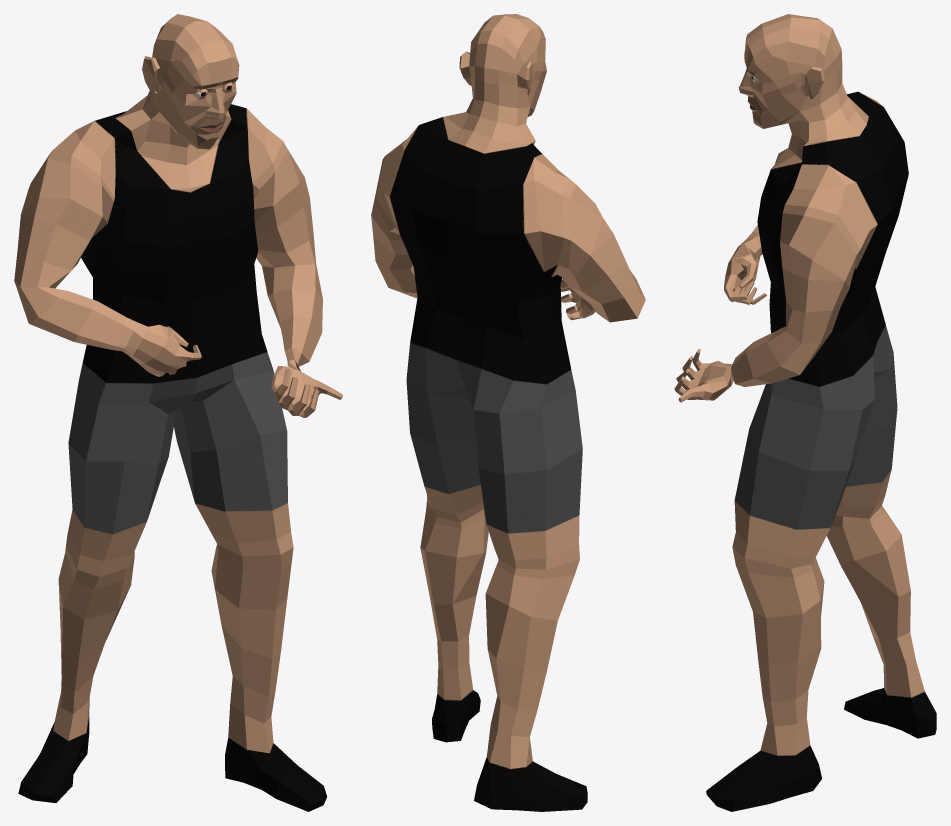
File: PlayerIdle(103).obj
3 renders of one model, left to right at view 1: azimuth 30°, elevation 25°; view 2: azimuth 150°, elevation 25°; view 3: azimuth 270°, elevation 25°, orthographic. The views are drawn at different scales.
Parts seen in each view (by area): view 1: Plane002; view 2: Plane002; view 3: Plane002.
Part boxes in pixels (left/top/right/bottom): Plane002: left=14, top=14, right=342, bottom=811; Plane002: left=371, top=14, right=645, bottom=811; Plane002: left=674, top=14, right=936, bottom=811.
Size of the model in its own units: 690 by 1803 by 574.
